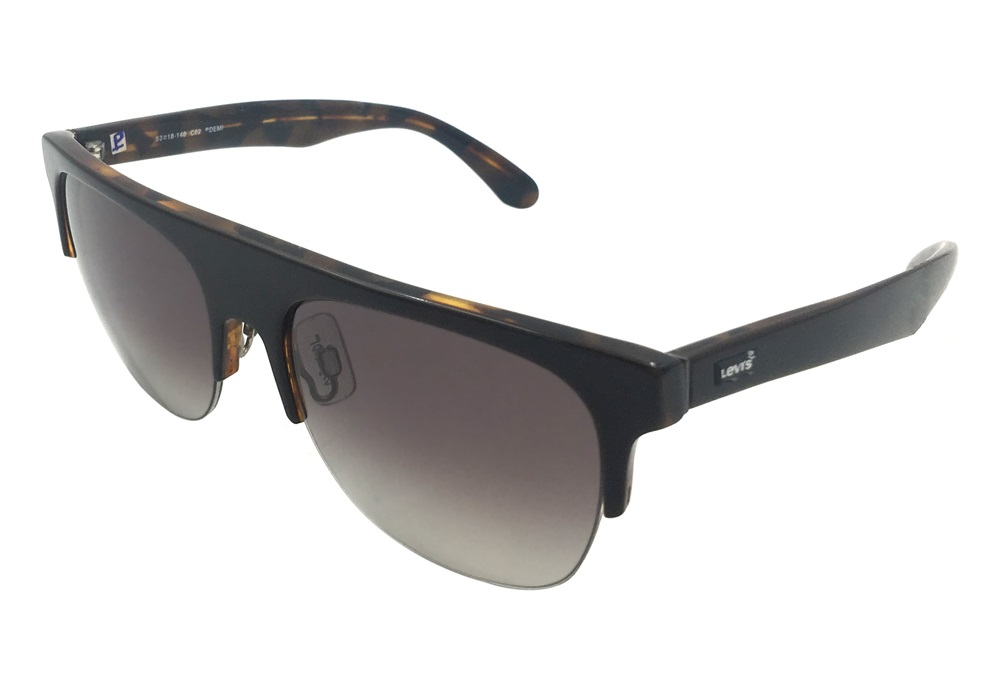Levi's: (710, 345, 767, 392)
